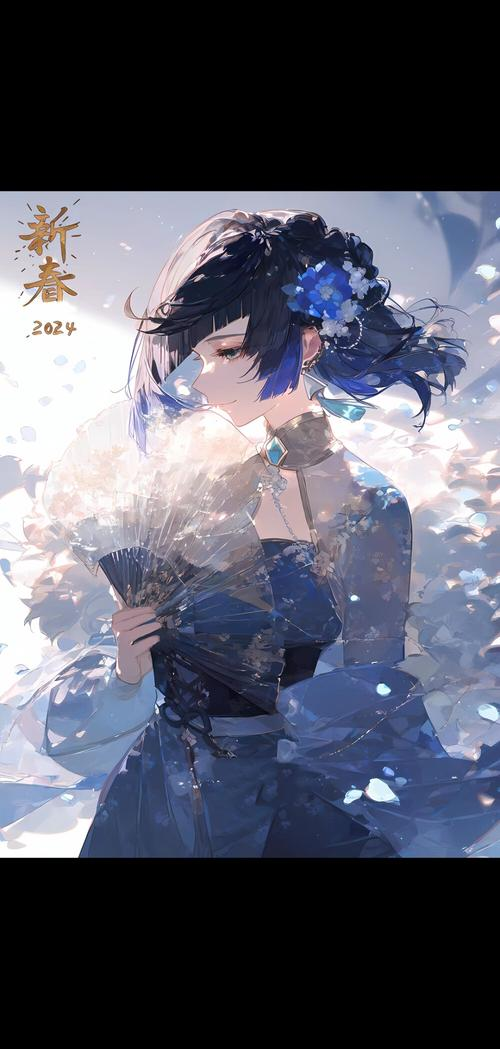夜兰: (31, 206, 450, 856)
